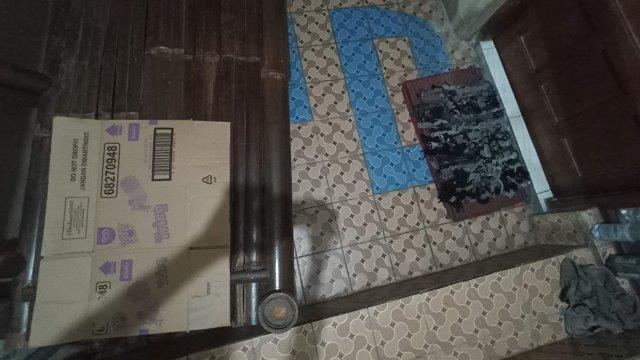kardus: (29, 118, 229, 346)
